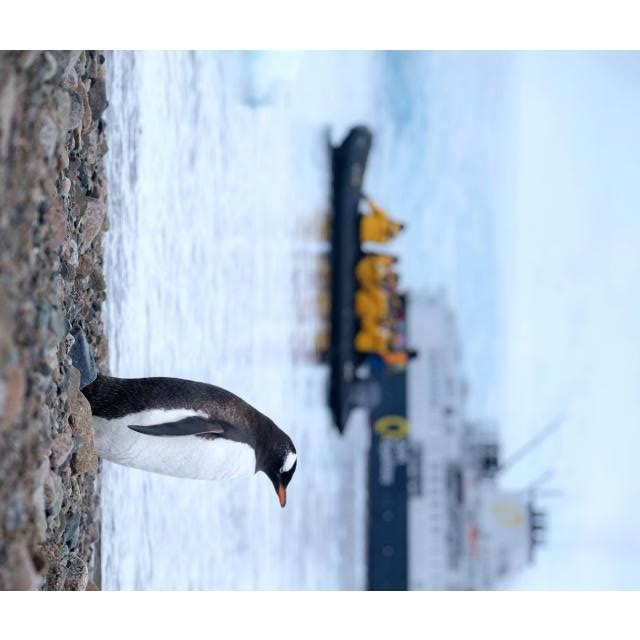penguin: (80, 377, 296, 508)
